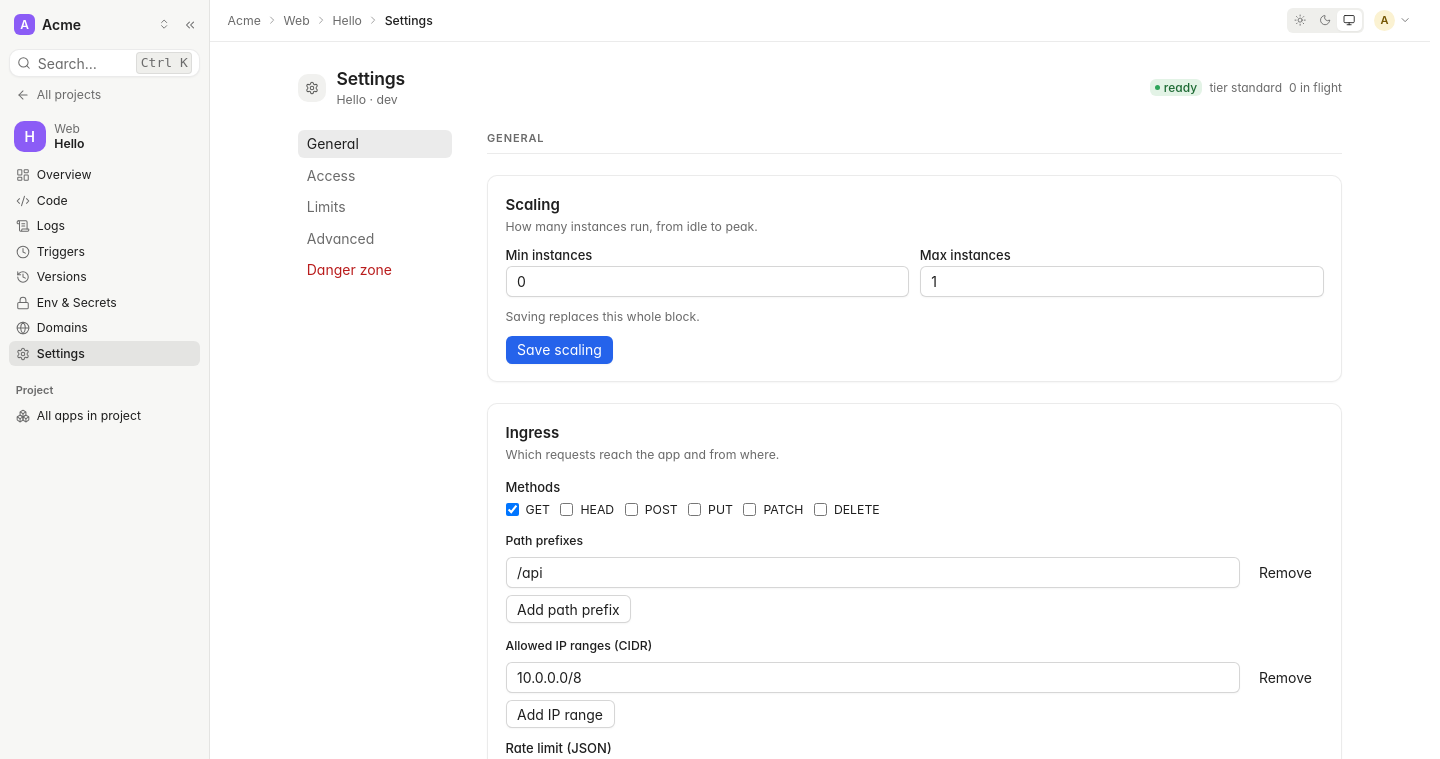
Test case: app settings route › shows one section at a time from a left sub-nav
Expected: the navigation bar named "Settings sections" shows "General", [298,130,452,158]
Expected: the text "Effective" is not shown
Click the button "Limits": {"x": 375, "y": 206} [298,192,452,220]
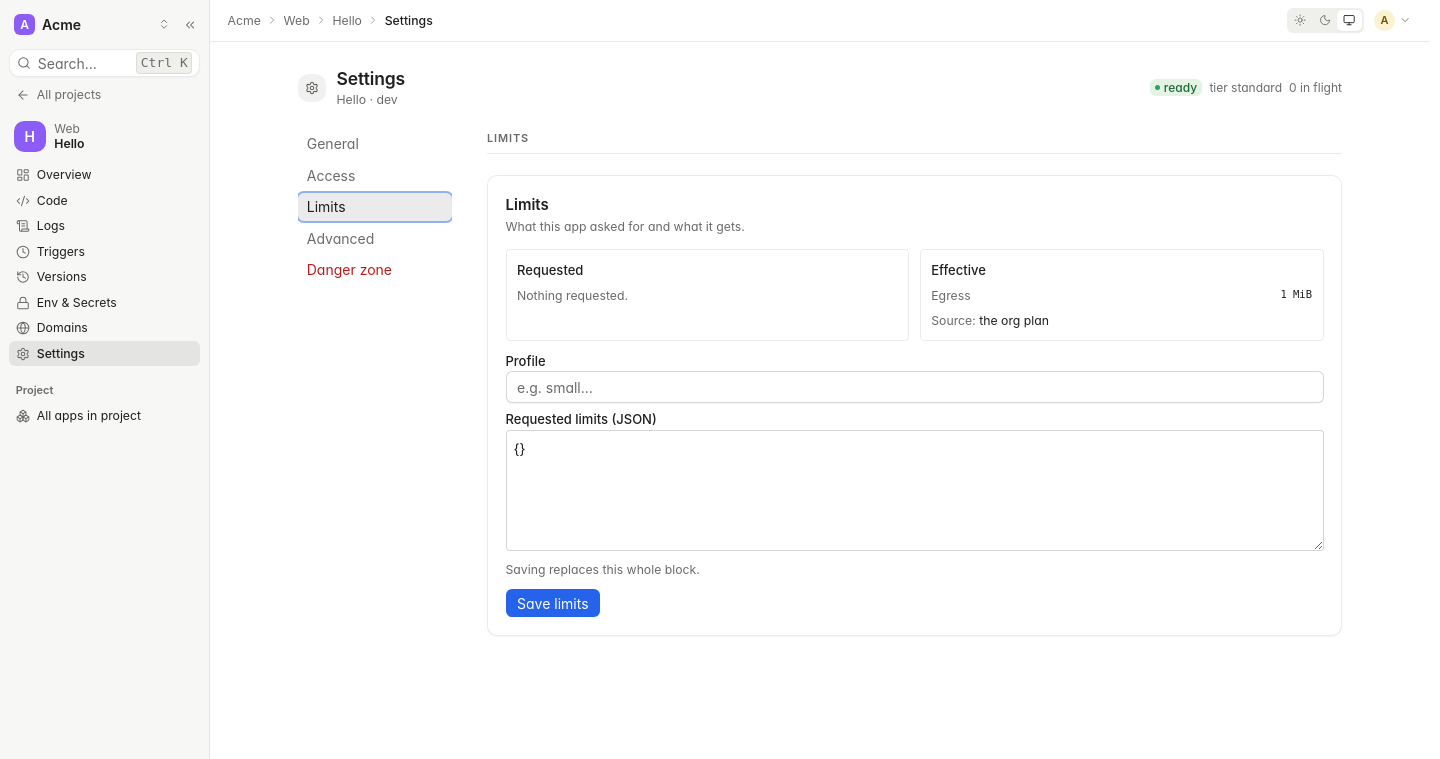
Result: the text "Effective" is shown at [931,262,986,278]
Result: the text "1 MiB" is shown at [1280,288,1312,300]
